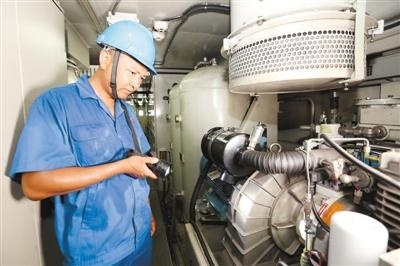blue: (88, 16, 160, 101)
